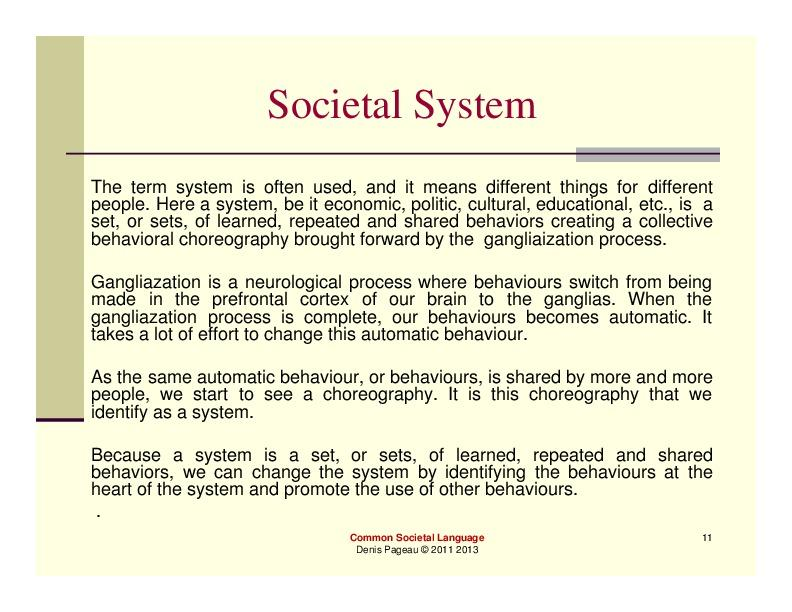paragraph: (87, 163, 745, 508)
title: (259, 74, 548, 132)
